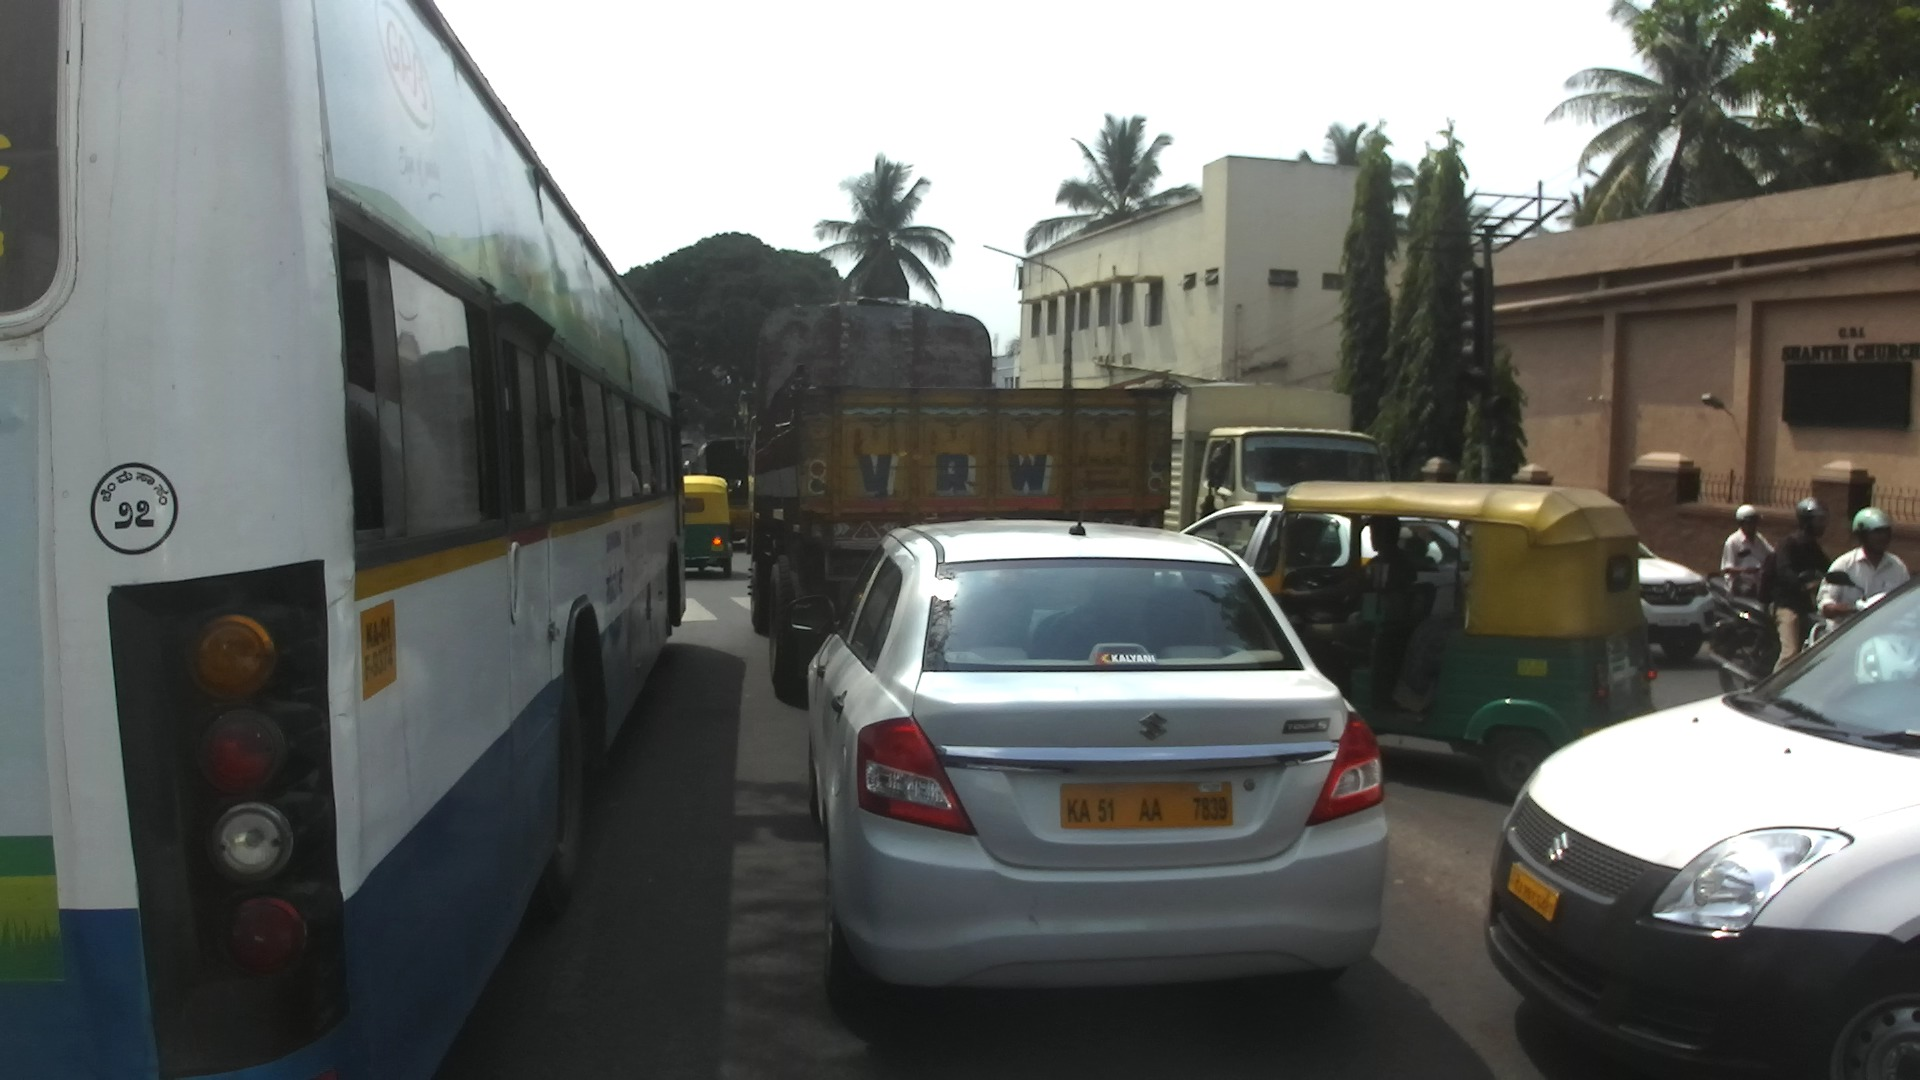autorickshaw: (1257, 481, 1669, 802), (677, 473, 736, 577)
bus: (1, 1, 688, 1080)
car: (782, 522, 1384, 1025), (1483, 566, 1920, 1080), (1171, 502, 1291, 589), (1635, 543, 1713, 662)
motorcycle: (1706, 588, 1778, 708), (1700, 568, 1736, 641)
rider: (1819, 504, 1909, 634), (1769, 498, 1832, 685), (1799, 570, 1882, 651), (1722, 502, 1774, 599)
traffic light: (1484, 390, 1519, 487), (1453, 268, 1486, 368)
truck: (745, 298, 1180, 704), (1163, 373, 1388, 547), (687, 435, 758, 543)
